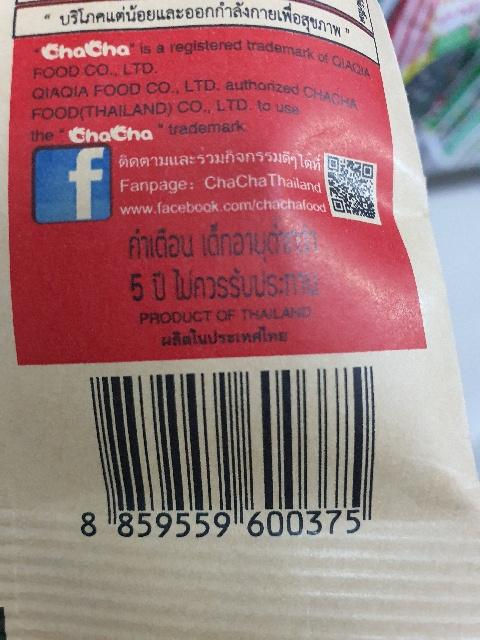Barcode: (66, 361, 394, 544)
